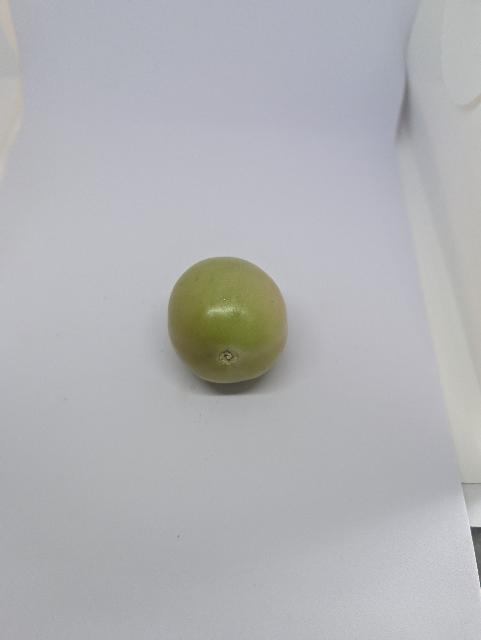green: (160, 245, 303, 407)
